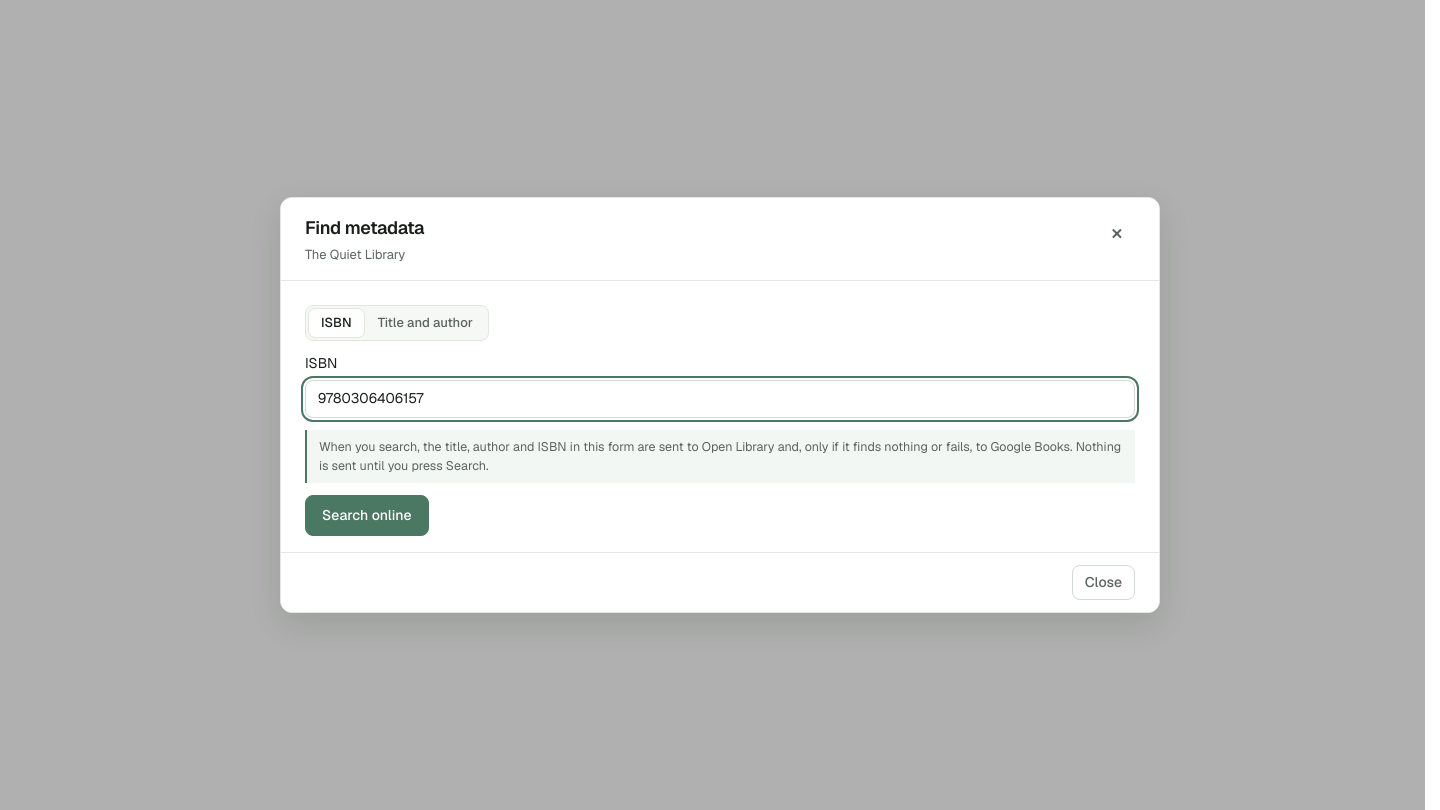
Test: FindMetadataDialog › reports partial provider failures and an empty result
Check: the field labelled "ISBN" is shown, box left=305, top=380, right=1135, bottom=418
Click the button "Search online" at (367, 516), box left=305, top=495, right=428, bottom=536
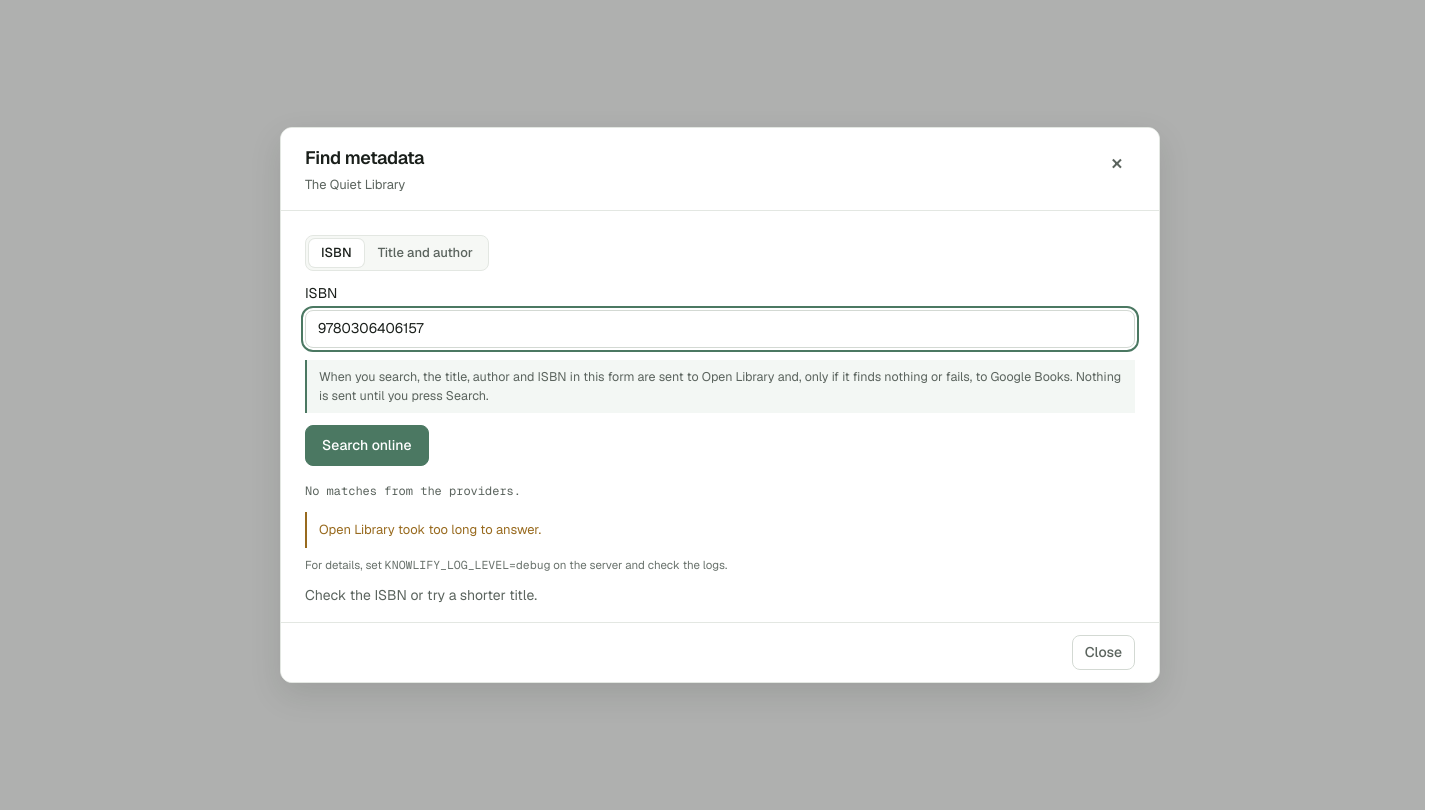
Check: the text "No matches from the providers." is shown, box left=305, top=483, right=521, bottom=499
Check: the text "Open Library took too long to answer." is shown, box left=305, top=512, right=1135, bottom=548
Check: the text "Check the ISBN or try a shorter title." is shown, box left=305, top=586, right=537, bottom=604
